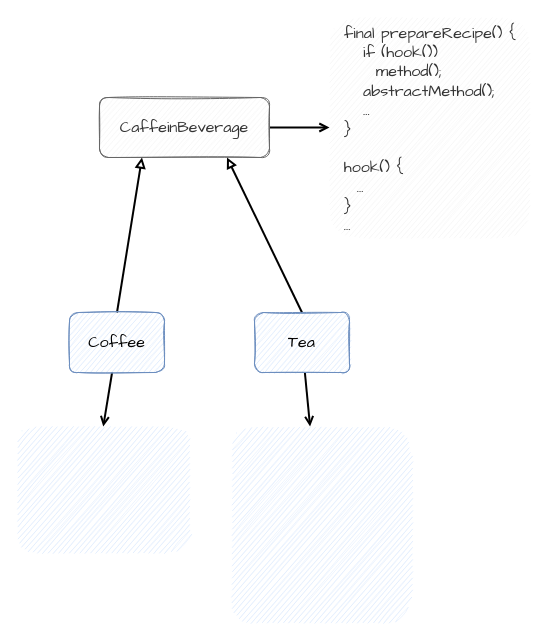
This 547x639 diagram has some shape labels left out. The centre of each missing label's shape, as x and y in pixels:
abstractMethod() { ... } ...: (x=102, y=488)
abstractMethod() { ... } hook() { ... } ...: (x=319, y=524)
